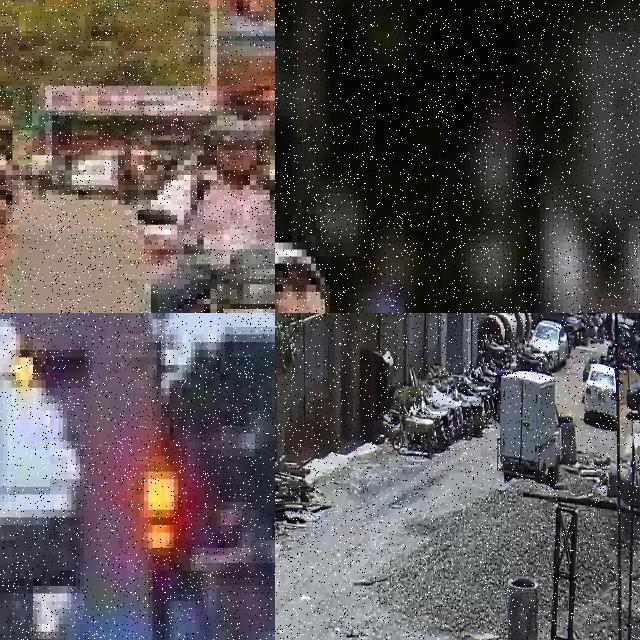bike: (393, 401, 437, 456)
car: (585, 364, 617, 423), (530, 321, 568, 367)
